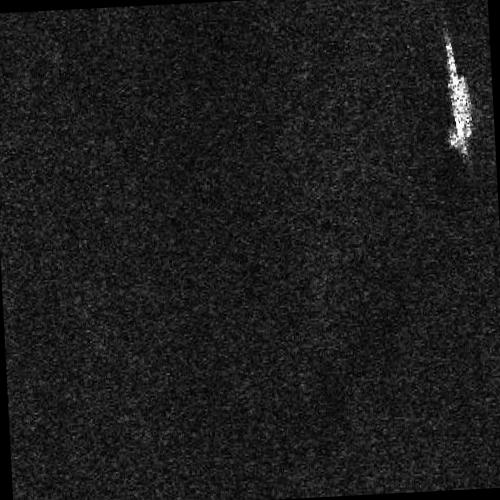ship: (445, 37, 472, 157)
